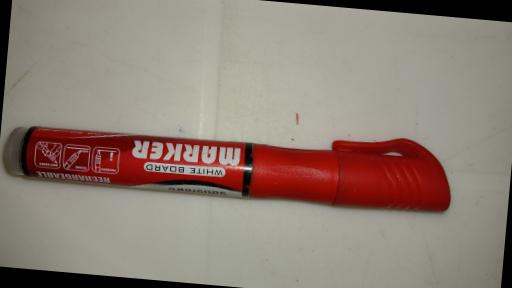Whiteboard marker: (0, 102, 456, 217)
